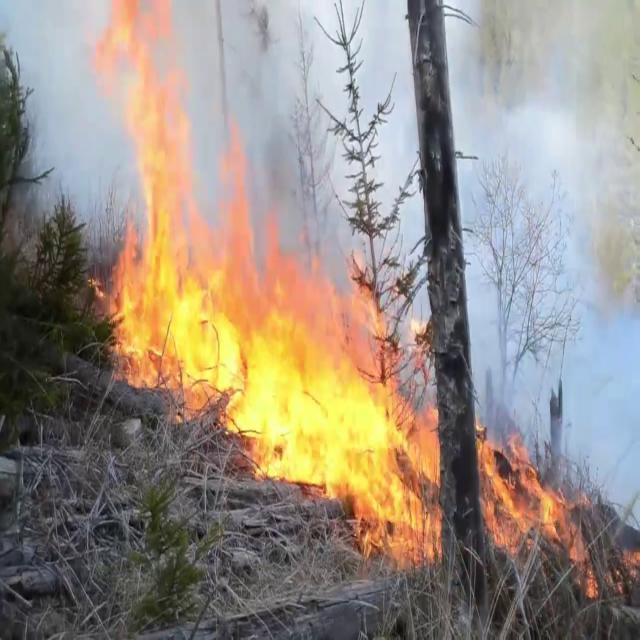Fire: (90, 4, 252, 431), (243, 216, 437, 554), (476, 409, 598, 597)
Smoke: (452, 0, 640, 510)
